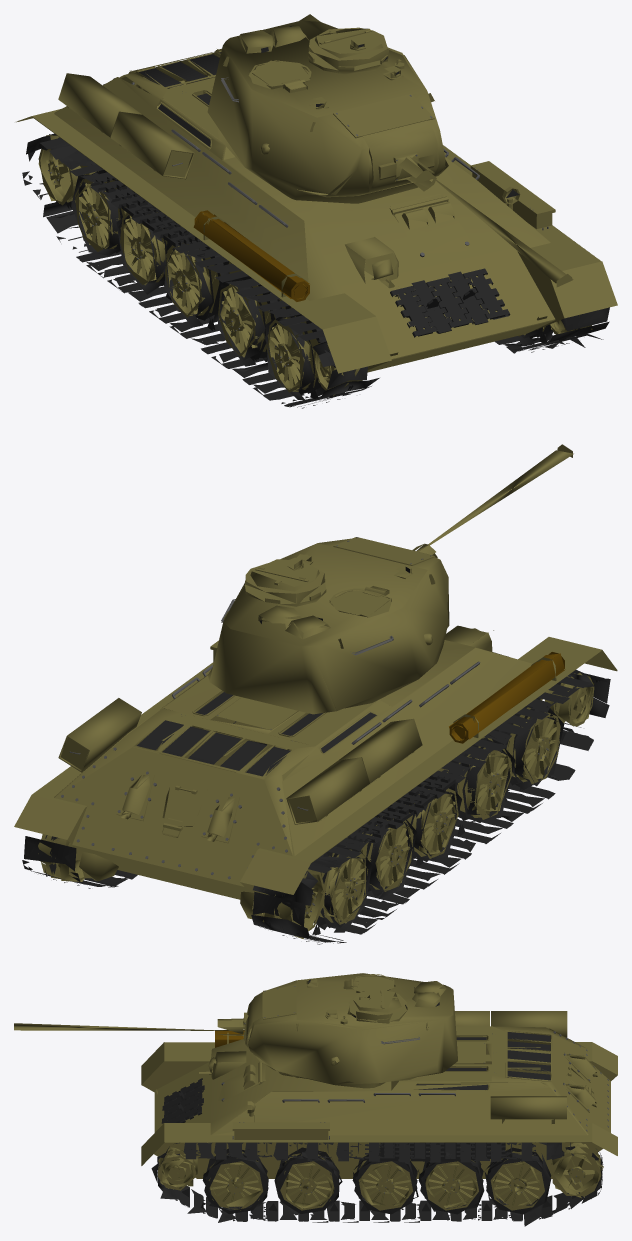
The model's file is tank_lod1.glb.
3 renders of one model, top to bottom at view 1: azimuth 30°, elevation 25°; view 2: azimuth 150°, elevation 25°; view 3: azimuth 270°, elevation 25°, orthographic. The views are drawn at different scales.
Parts seen in each view (by area): view 1: L.wheel.006_T-34 Body_0.002, L.Truck_T-34 Truck_0.004, T34 Head_T-34 nails_0.002, L.Truck.002_T-34 nails_0.002; view 2: L.wheel.006_T-34 Body_0.002, L.Truck_T-34 Truck_0.004, T34 Head_T-34 nails_0.002, L.Truck.002_T-34 nails_0.002; view 3: L.wheel.006_T-34 Body_0.002, L.Truck_T-34 Truck_0.004, L.Truck.002_T-34 nails_0.002, T34 Head_T-34 nails_0.002.
Part boxes in pixels (x1=…): L.wheel.006_T-34 Body_0.002: x1=16, y1=14, x2=617, y2=395; L.Truck_T-34 Truck_0.004: x1=22, y1=26, x2=609, y2=408; T34 Head_T-34 nails_0.002: x1=193, y1=210, x2=309, y2=301; L.Truck.002_T-34 nails_0.002: x1=48, y1=76, x2=548, y2=366; L.wheel.006_T-34 Body_0.002: x1=14, y1=444, x2=617, y2=938; L.Truck_T-34 Truck_0.004: x1=22, y1=559, x2=610, y2=944; T34 Head_T-34 nails_0.002: x1=449, y1=652, x2=565, y2=743; L.Truck.002_T-34 nails_0.002: x1=61, y1=537, x2=549, y2=913; L.wheel.006_T-34 Body_0.002: x1=14, y1=973, x2=617, y2=1210; L.Truck_T-34 Truck_0.004: x1=151, y1=979, x2=603, y2=1226; L.Truck.002_T-34 nails_0.002: x1=221, y1=986, x2=608, y2=1193; T34 Head_T-34 nails_0.002: x1=215, y1=1030, x2=244, y2=1047.
Bounding box in the file's own units: 71.38 × 62.6 × 178.
